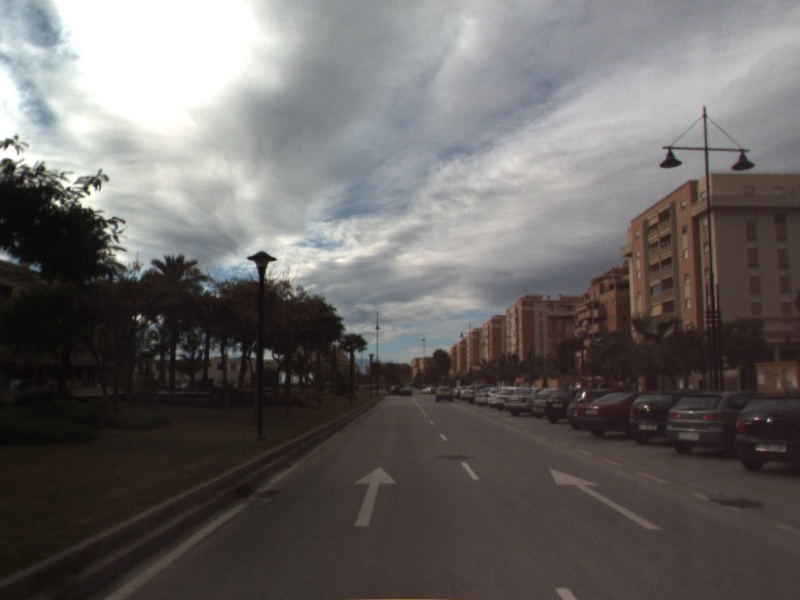STRAIGHT: (548, 467, 664, 531), (352, 465, 399, 528)
